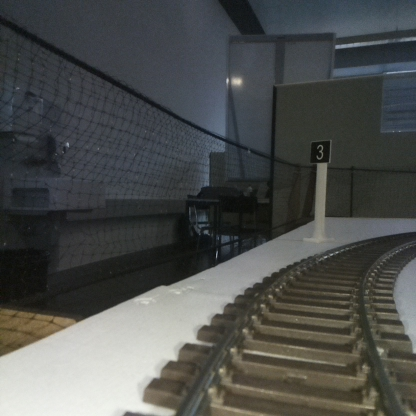black-info-3: (311, 140, 330, 240)
